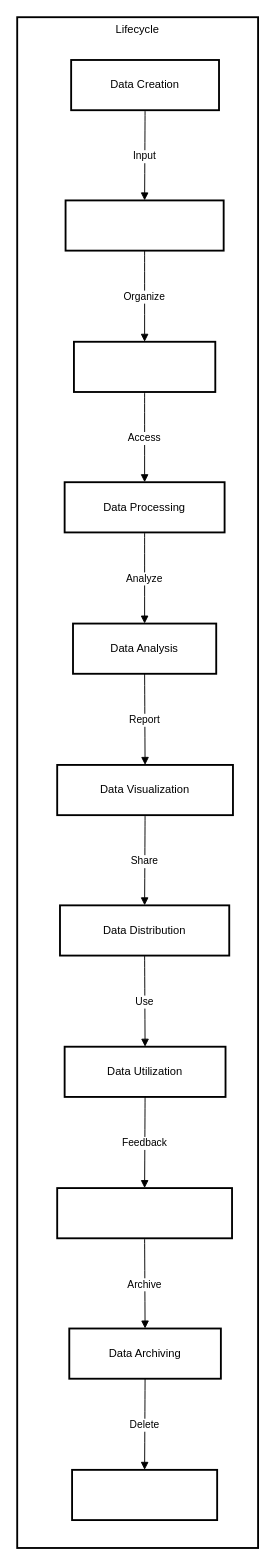
This 274x1564 diagram has some shape labels left out. The centre of each missing label's shape, as x and y in pixels:
"Data Collection" goes at pixel 144 225.
"Data Disposal" goes at pixel 144 1494.
"Data Maintenance" goes at pixel 144 1213.
"Data Storage" goes at pixel 144 366.
